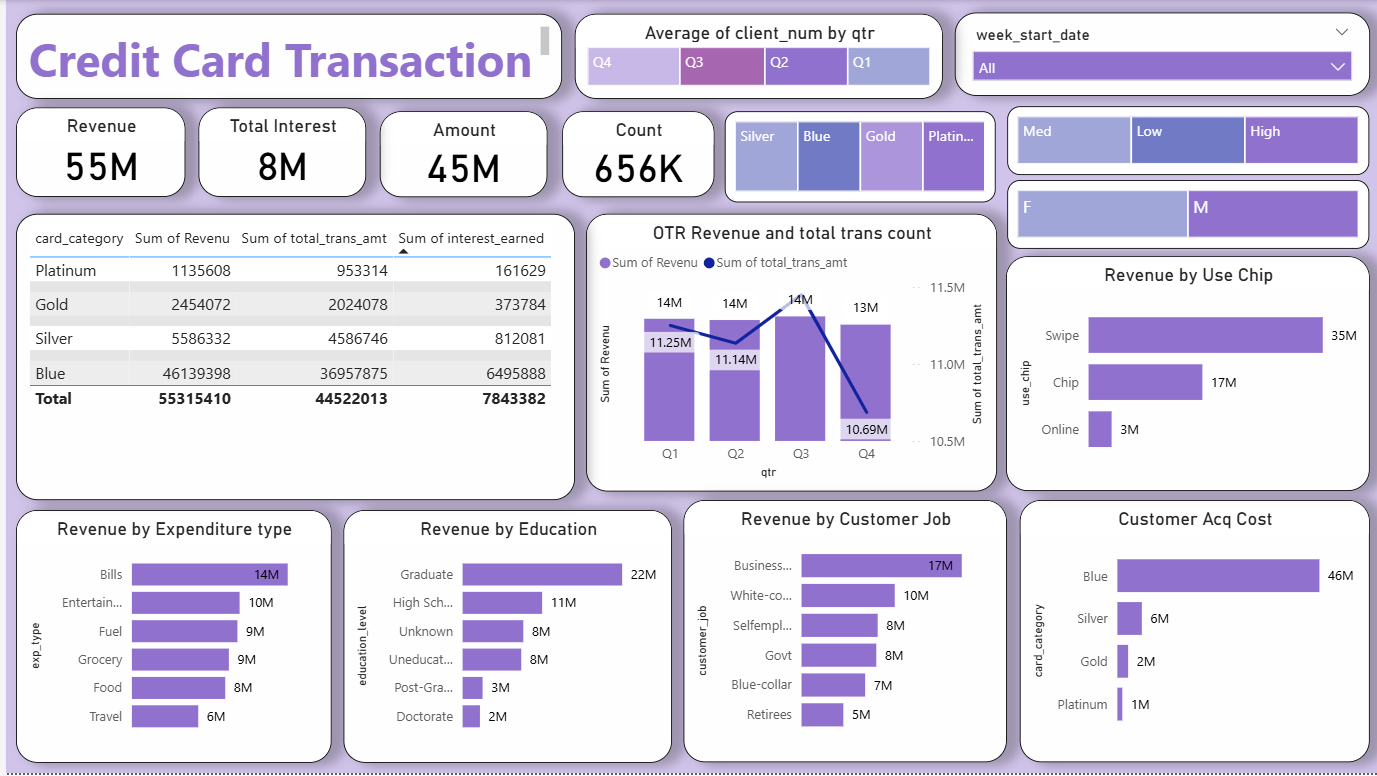

The dashboard page shown, as its layout file describes it:
{"tool":"powerbi","page":{"name":"CC Transaction","canvas":[1280,720],"ordinal":1},"visuals":[{"type":"textbox","box":[9.5,12.2,508.3,78.8],"z":0},{"type":"lineStackedColumnComboChart","title":"OTR Revenue and total trans count ","fields":{"Category":["public cc_detail.qtr"],"Y":["Sum(public cc_detail.Revenu)"],"Y2":["Sum(public cc_detail.total_trans_amt)"]},"box":[539.5,198.8,382.6,258.1],"z":1000},{"type":"barChart","title":" Revenue by Expenditure type","fields":{"Y":["Sum(public cc_detail.Revenu)"],"Category":["public cc_detail.exp_type"]},"box":[9.5,474.3,293.6,235.1],"z":2000},{"type":"barChart","title":" Revenue by Education","fields":{"Y":["Sum(public cc_detail.Revenu)"],"Category":["public cust_detail.education_level"]},"box":[314,474.3,305.8,235.1],"z":3000},{"type":"barChart","title":" Revenue by Customer Job","fields":{"Y":["Sum(public cc_detail.Revenu)"],"Category":["public cust_detail.customer_job"]},"box":[630.2,465.1,301.2,244.2],"z":4000},{"type":"barChart","title":"Customer Acq Cost","fields":{"Y":["Sum(public cc_detail.Revenu)"],"Category":["public cc_detail.card_category"]},"box":[943,465.1,325.6,244.2],"z":5000},{"type":"barChart","title":" Revenue by Use Chip","fields":{"Y":["Sum(public cc_detail.Revenu)"],"Category":["public cc_detail.use_chip"]},"box":[930.2,238.4,338.4,218.6],"z":6000},{"type":"tableEx","fields":{"Values":["public cc_detail.card_category","Sum(public cc_detail.Revenu)","Sum(public cc_detail.total_trans_amt)","Sum(public cc_detail.interest_earned)"]},"box":[9.3,198.8,519.8,266.3],"z":7000},{"type":"card","title":"Revenue","fields":{"Values":["Sum(public cc_detail.Revenu)"]},"box":[9.5,100.6,157.7,82.9],"z":8000},{"type":"card","title":"Amount","fields":{"Values":["Sum(public cc_detail.total_trans_amt)"]},"box":[347.9,103.3,156.3,80.2],"z":9000},{"type":"card","title":"Total Interest","fields":{"Values":["Sum(public cc_detail.interest_earned)"]},"box":[179.4,100.6,156.3,82.9],"z":10000},{"type":"card","title":"Count","fields":{"Values":["Sum(public cc_detail.total_trans_ct)"]},"box":[517.8,103.3,141.3,80.2],"z":11000},{"type":"slicer","fields":{"Values":["public cc_detail.week_start_date"]},"box":[882.6,11.6,386,77.9],"z":12000},{"type":"treemap","fields":{"Group":["public cc_detail.qtr"],"Values":["Avg(public cc_detail.client_num)"]},"box":[528.7,12.2,342.5,78.8],"z":13000},{"type":"treemap","fields":{"Group":["public cust_detail.gender"],"Values":["Avg(public cc_detail.client_num)"]},"box":[931,167.2,337.1,63.9],"z":14000},{"type":"treemap","fields":{"Group":["public cc_detail.card_category"],"Values":["Avg(public cc_detail.client_num)"]},"box":[668.6,103.5,252.3,84.9],"z":15000},{"type":"treemap","fields":{"Group":["public cust_detail.IncomeGroup"],"Values":["Avg(public cc_detail.client_num)"]},"box":[931,99.2,337.1,63.9],"z":16000}]}

Visuals, with their boxes in screenshot pixels (x1, y1, x2, y2), scaled from the page's 1280x720 canvas onto the 1377x776 screenshot:
textbox: box=[10, 13, 557, 98]
"OTR Revenue and total trans count " lineStackedColumnComboChart: box=[580, 214, 992, 492]
" Revenue by Expenditure type" barChart: box=[10, 511, 326, 765]
" Revenue by Education" barChart: box=[338, 511, 667, 765]
" Revenue by Customer Job" barChart: box=[678, 501, 1002, 764]
"Customer Acq Cost" barChart: box=[1014, 501, 1365, 764]
" Revenue by Use Chip" barChart: box=[1001, 257, 1365, 493]
tableEx - public cc_detail.card_category x Sum(public cc_detail.Revenu): box=[10, 214, 569, 501]
"Revenue" card: box=[10, 108, 180, 198]
"Amount" card: box=[374, 111, 542, 198]
"Total Interest" card: box=[193, 108, 361, 198]
"Count" card: box=[557, 111, 709, 198]
slicer - public cc_detail.week_start_date: box=[949, 13, 1365, 96]
treemap - public cc_detail.qtr x Avg(public cc_detail.client_num): box=[569, 13, 937, 98]
treemap - public cust_detail.gender x Avg(public cc_detail.client_num): box=[1002, 180, 1364, 249]
treemap - public cc_detail.card_category x Avg(public cc_detail.client_num): box=[719, 112, 991, 203]
treemap - public cust_detail.IncomeGroup x Avg(public cc_detail.client_num): box=[1002, 107, 1364, 176]
